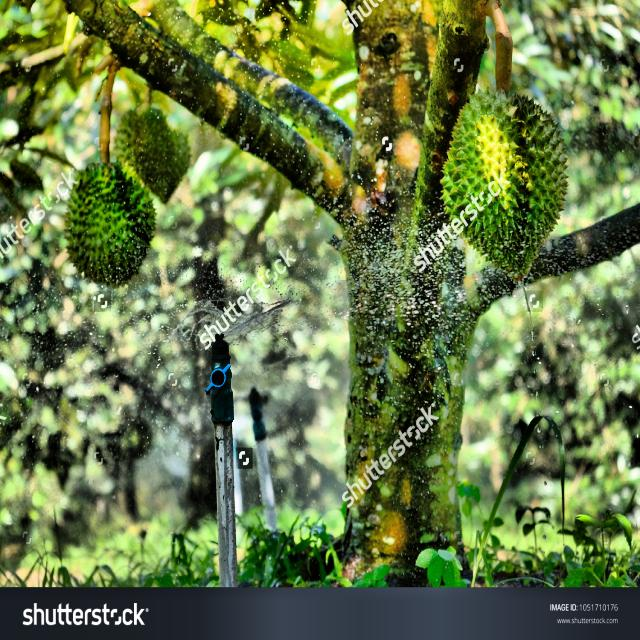arvore: (316, 0, 493, 593)
